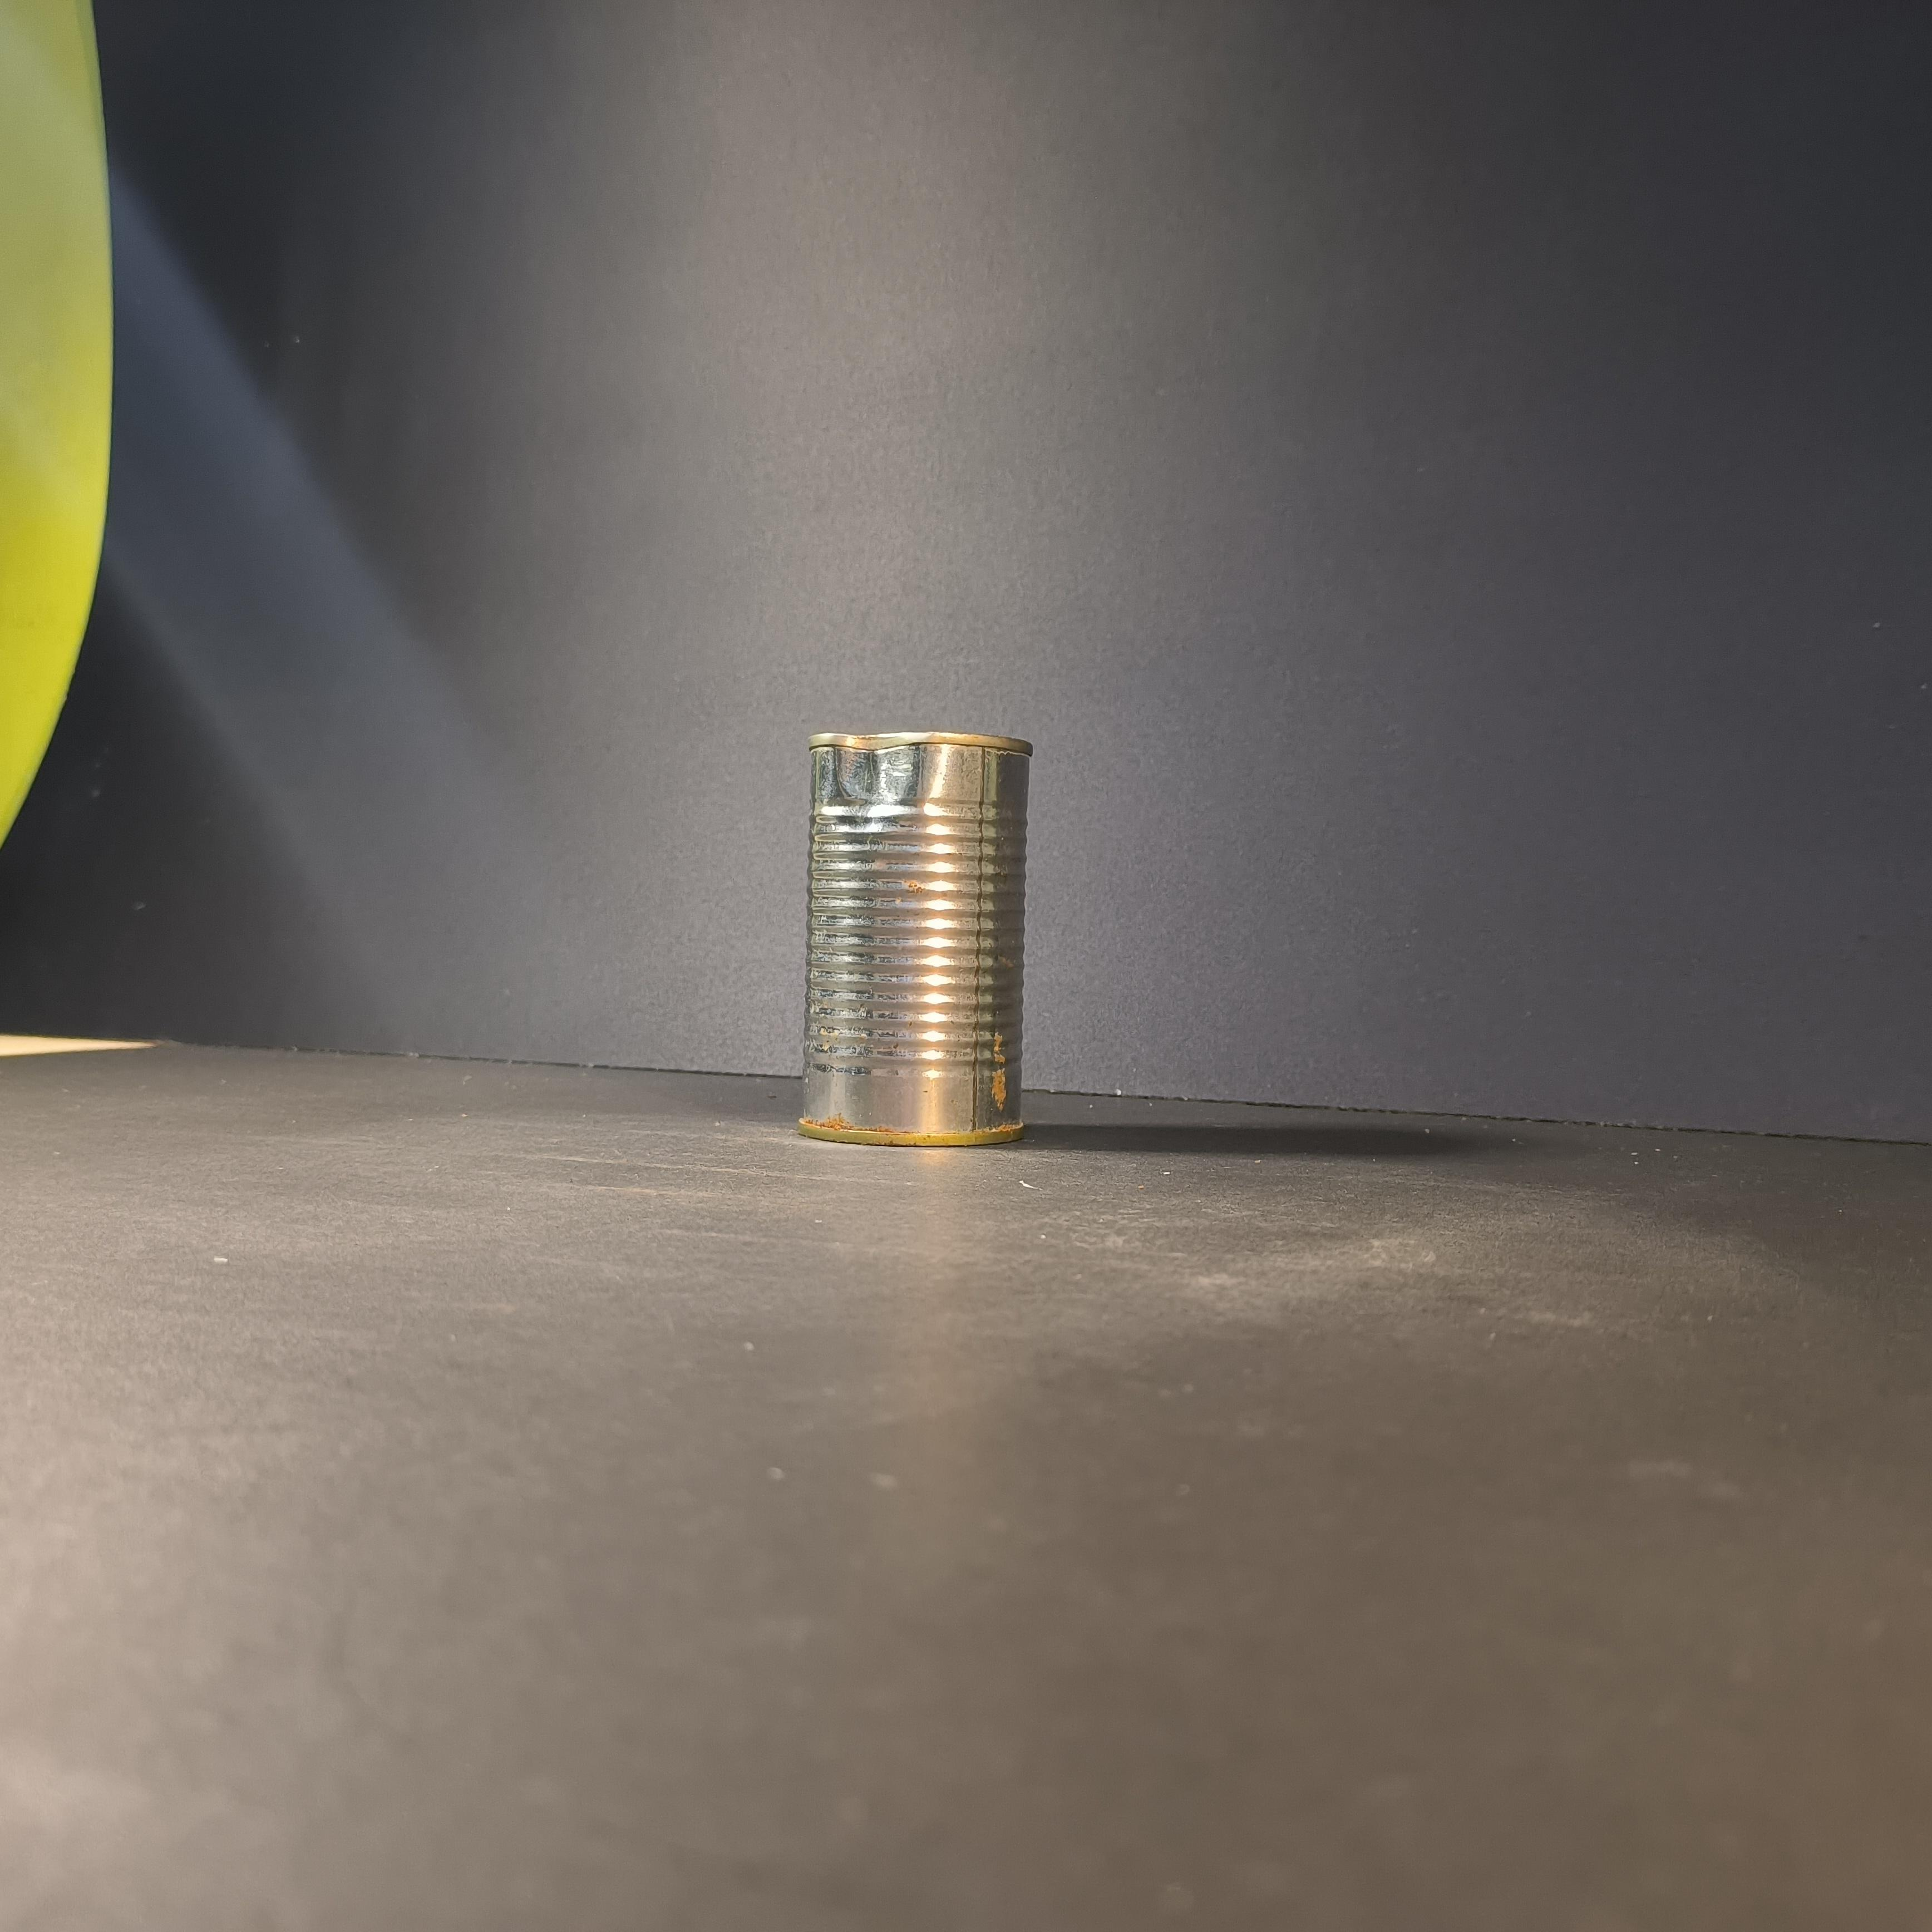Dented: (791, 701, 1046, 1157)
